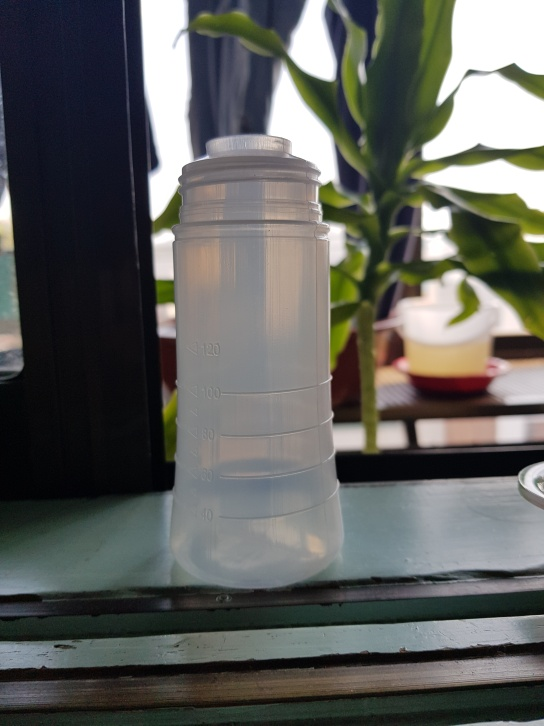Plastic: (165, 132, 347, 596)
